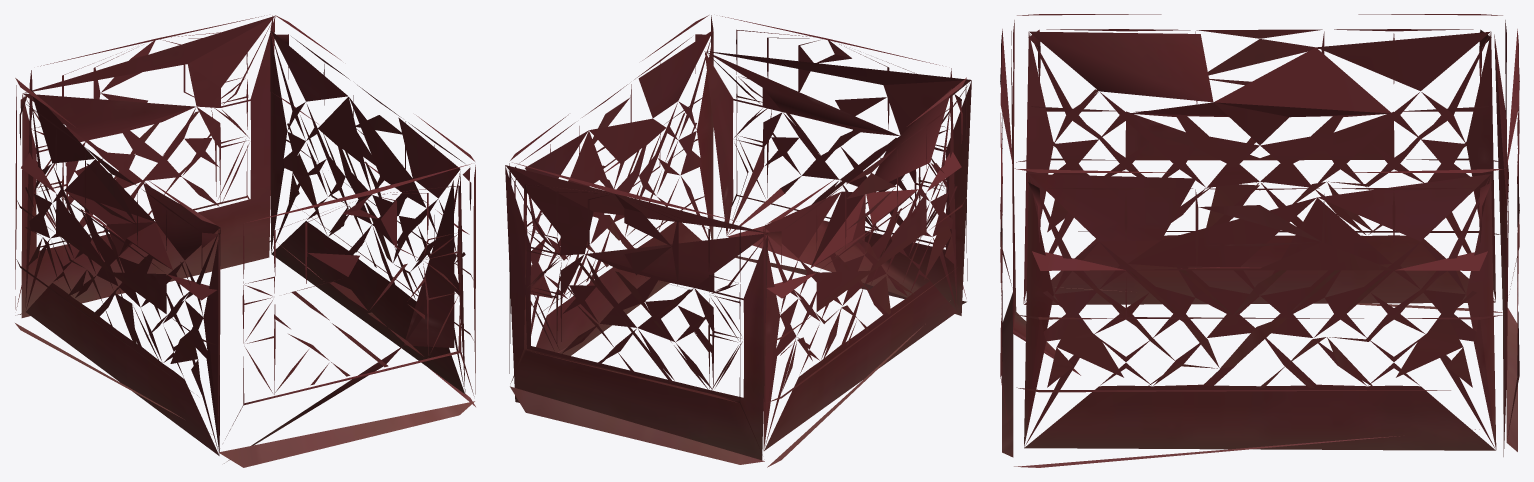
File: plastic_crate_01.glb
The picture shows the model from 3 angles, left to right: view 1: azimuth 30°, elevation 25°; view 2: azimuth 150°, elevation 25°; view 3: azimuth 270°, elevation 25°; orthographic projection. The views are drawn at different scales.
Parts seen in each view (by area): view 1: plastic_crate_01; view 2: plastic_crate_01; view 3: plastic_crate_01.
Boxes of the visible parts, left/top/right/bottom form: plastic_crate_01: left=15, top=15, right=475, bottom=467; plastic_crate_01: left=505, top=15, right=971, bottom=467; plastic_crate_01: left=1000, top=14, right=1519, bottom=467.
Size of the model in its own units: 0.299 by 0.261 by 0.4122.
1 material, 1 textured.
